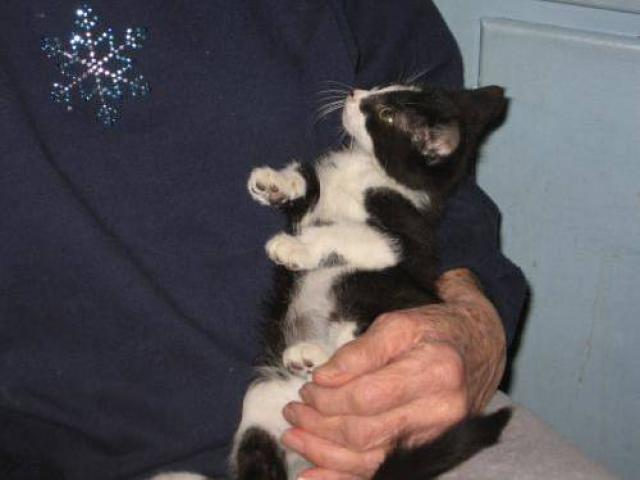cat: (242, 69, 520, 473)
